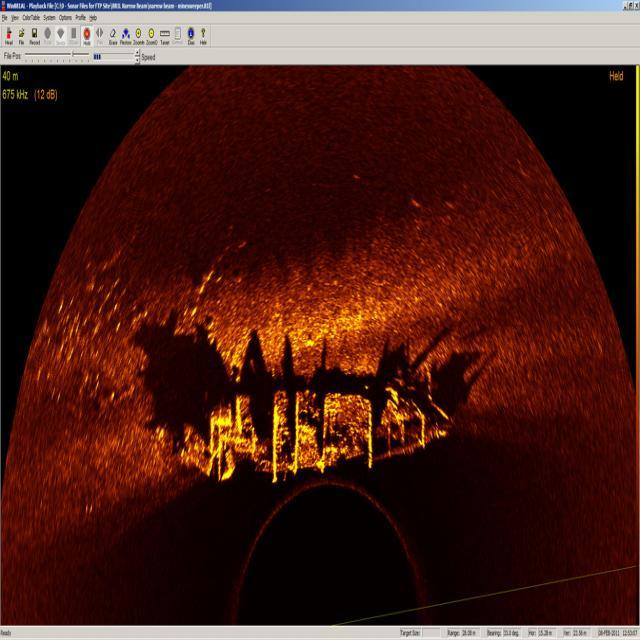shipwreck: (179, 368, 454, 481)
